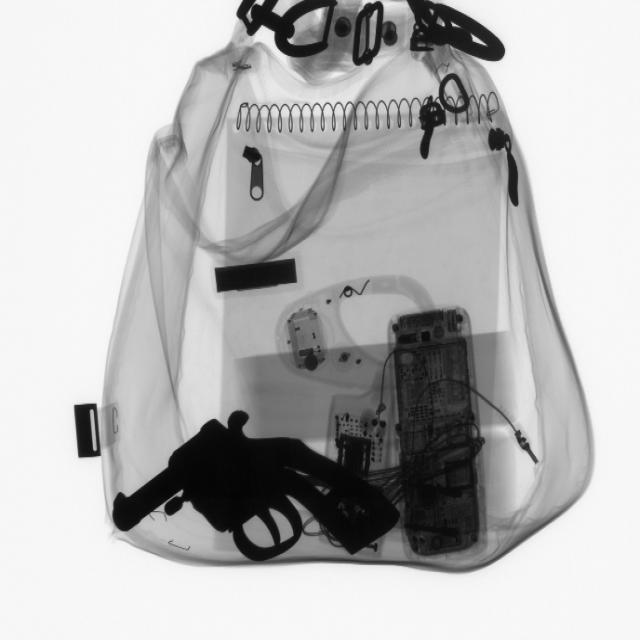GUN: (103, 409, 402, 567)
